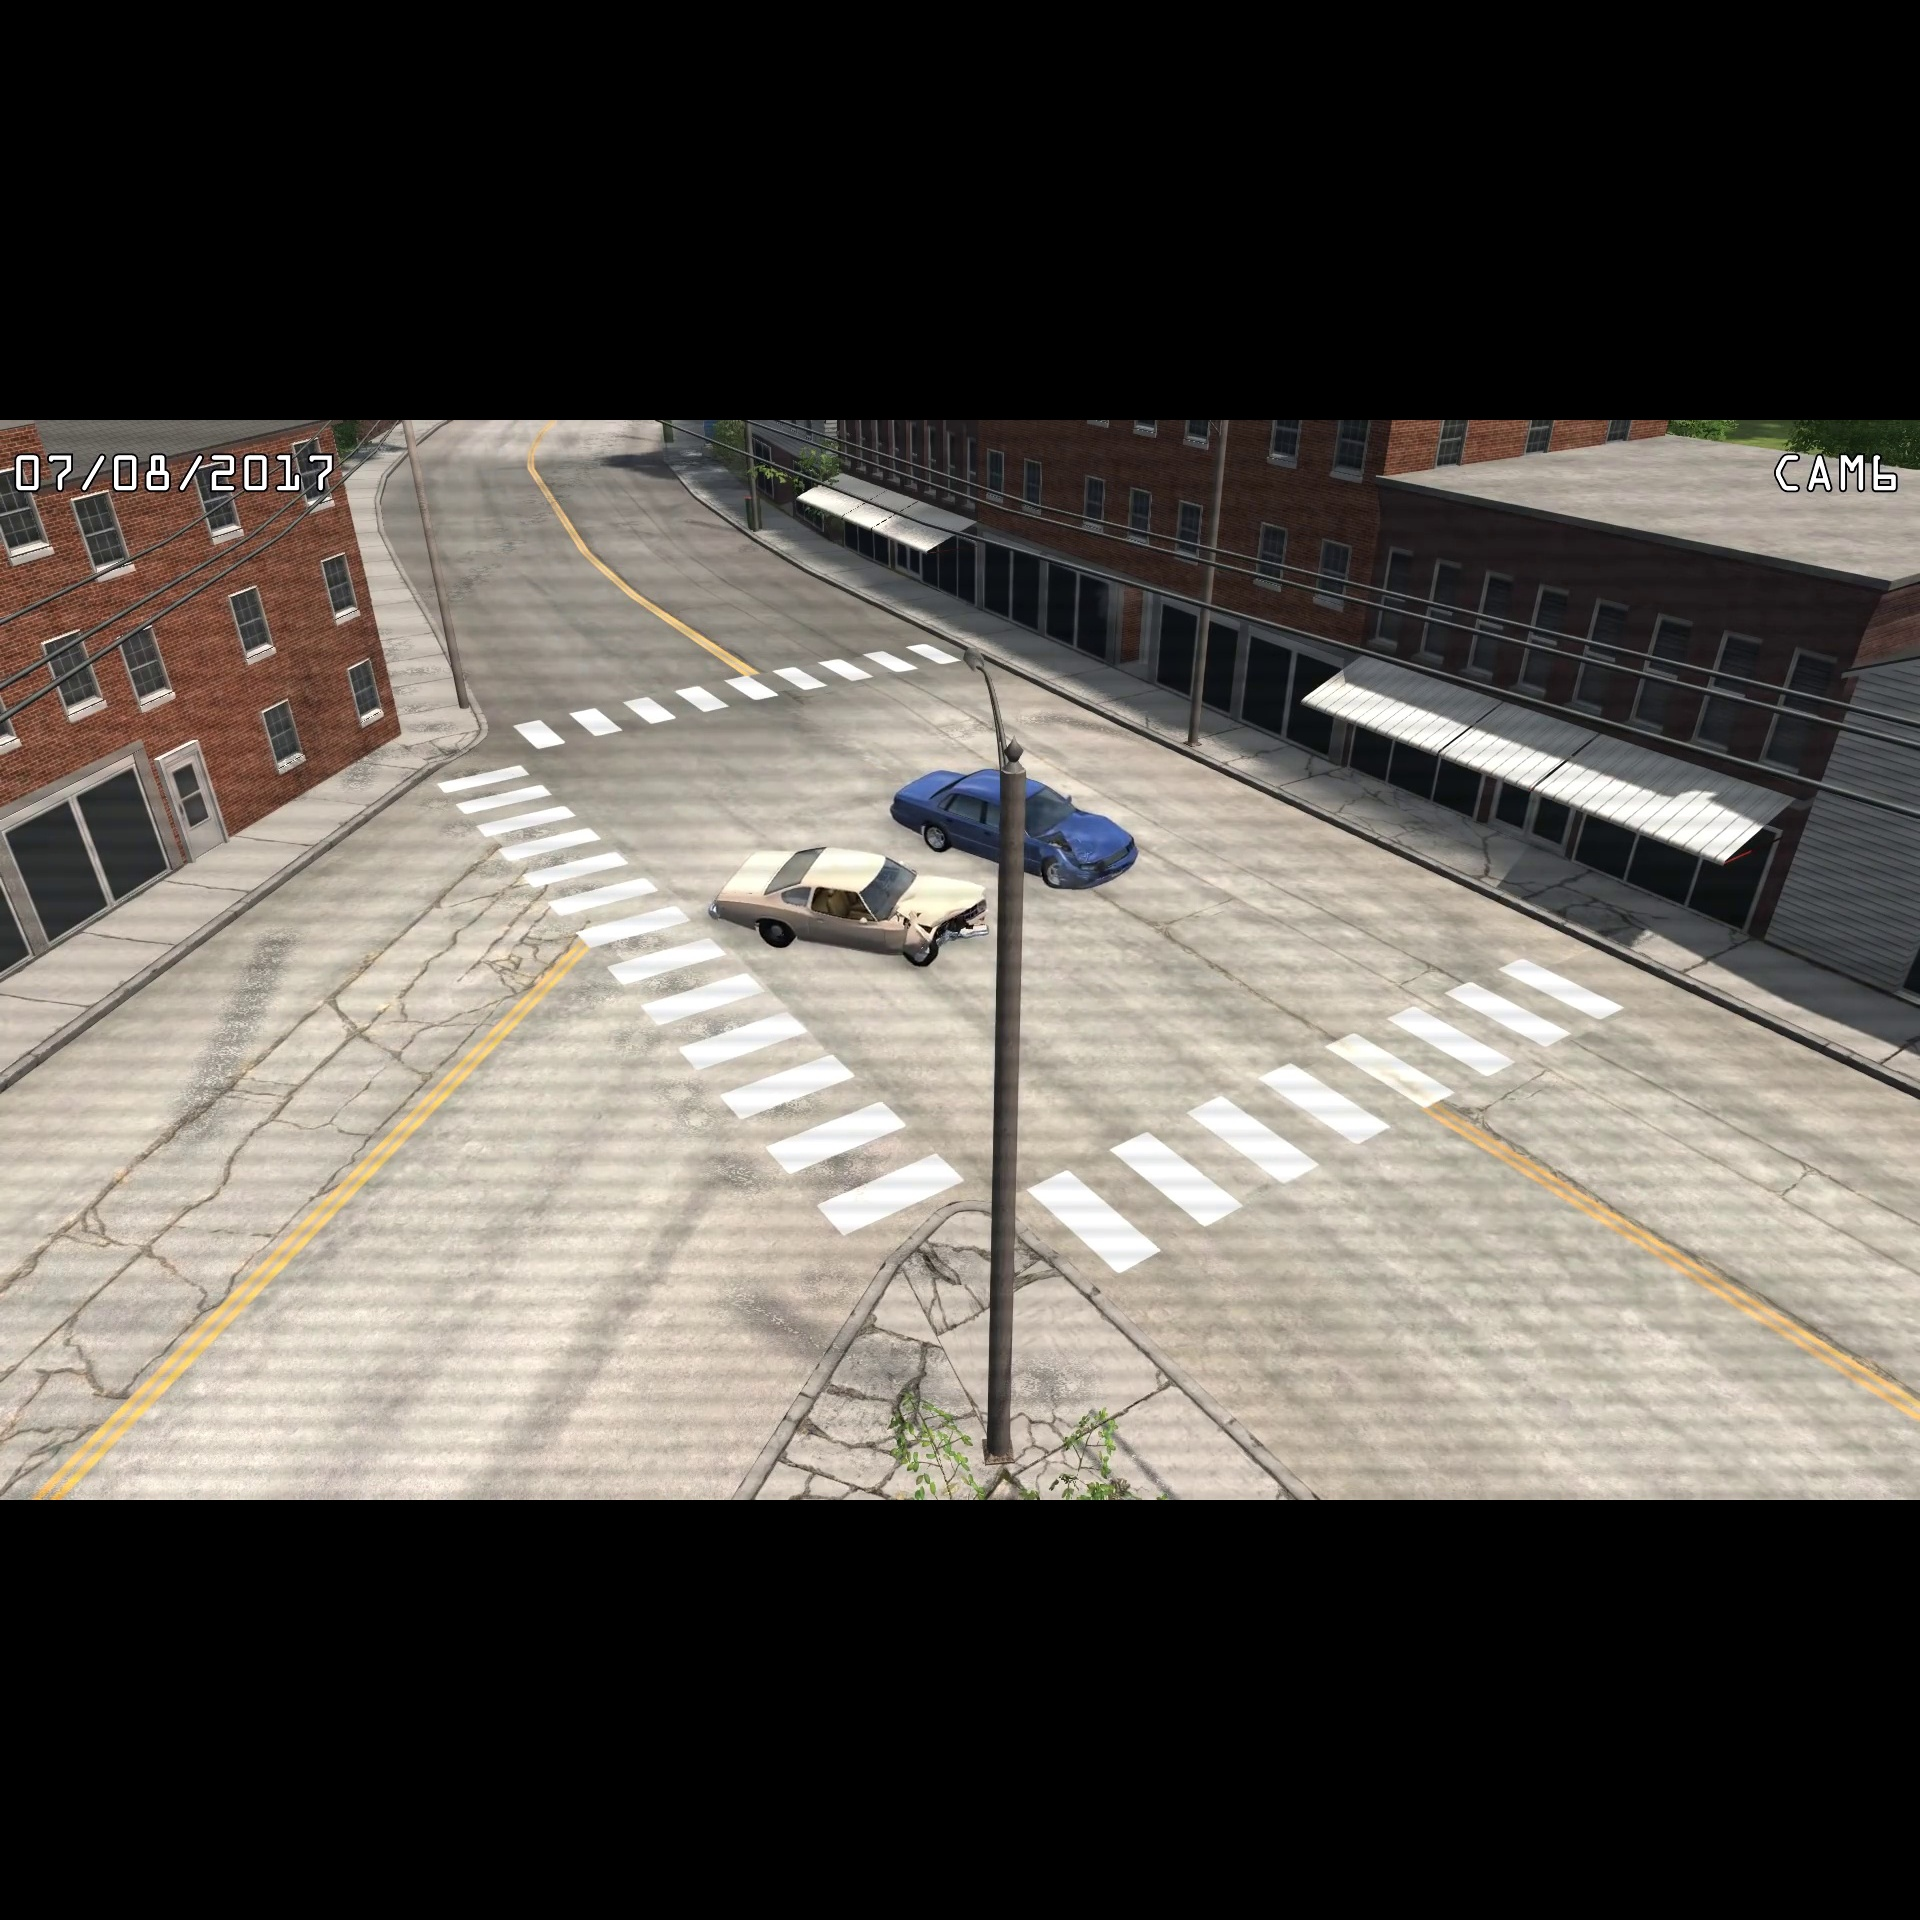vehicle: (702, 837, 1000, 976), (879, 758, 1143, 897)
